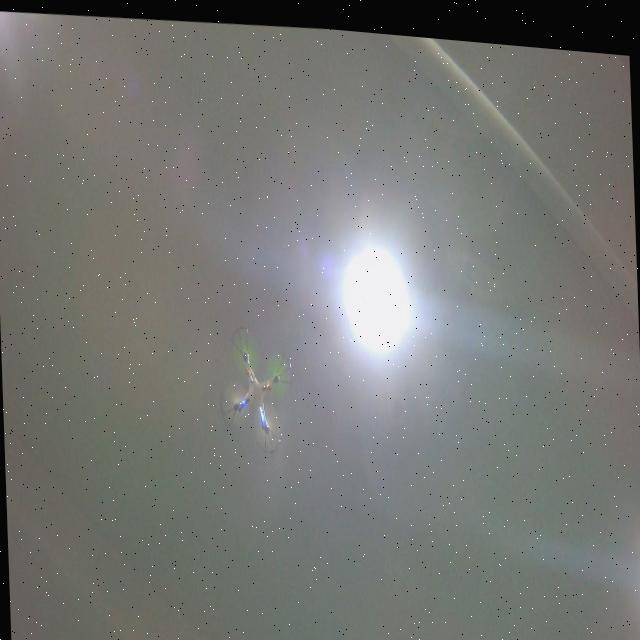drone: (215, 312, 298, 456)
